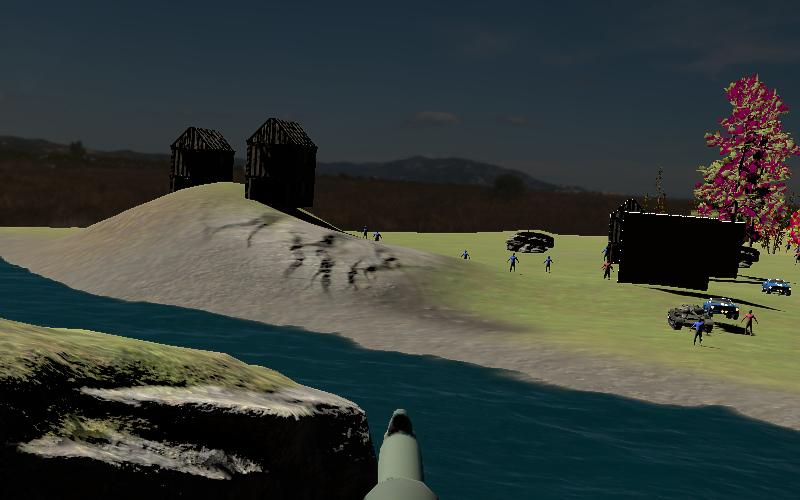car: (702, 296, 740, 320), (761, 277, 793, 297)
